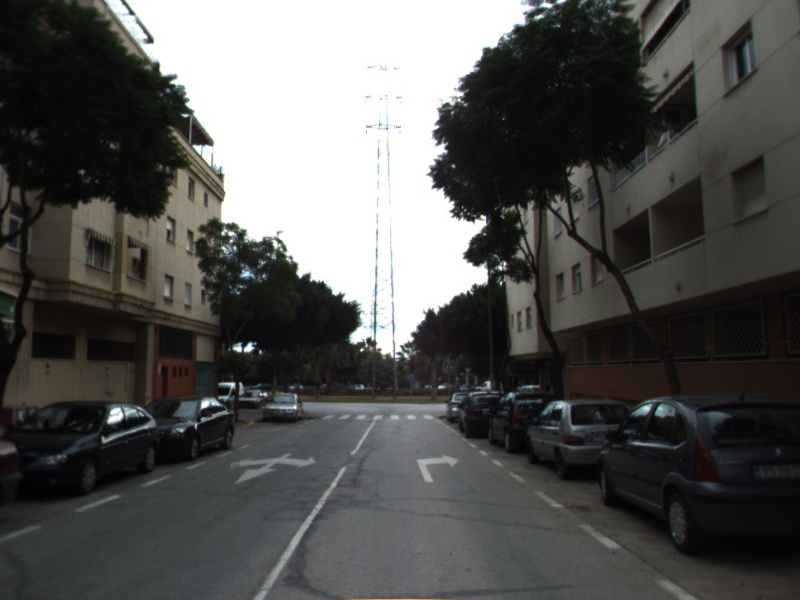RIGHT: (415, 453, 461, 484)
